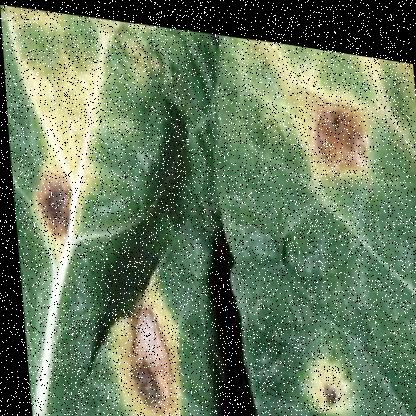AlternariaBrassicicola: (89, 259, 182, 415), (282, 73, 382, 193), (279, 326, 358, 415), (17, 149, 78, 254)
